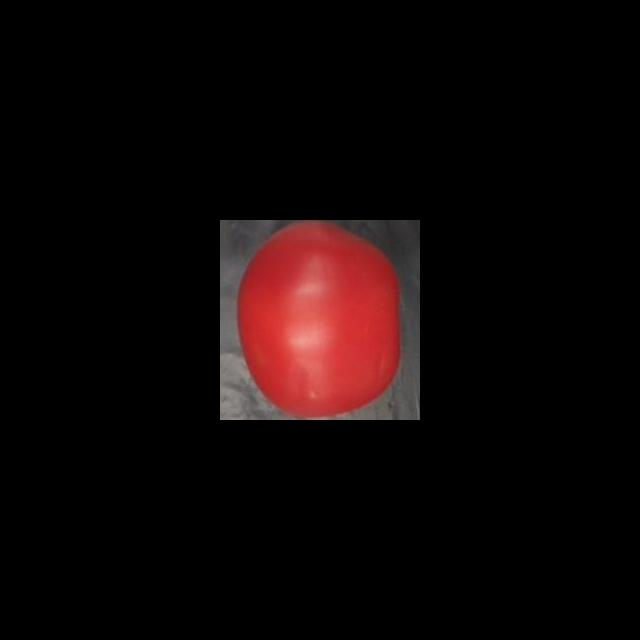tomato: (232, 220, 402, 420)
